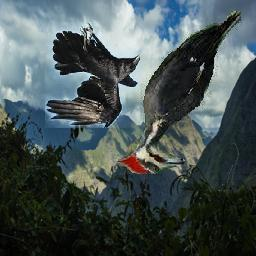Crow: (46, 22, 141, 128)
Woodpecker: (118, 12, 243, 175)
